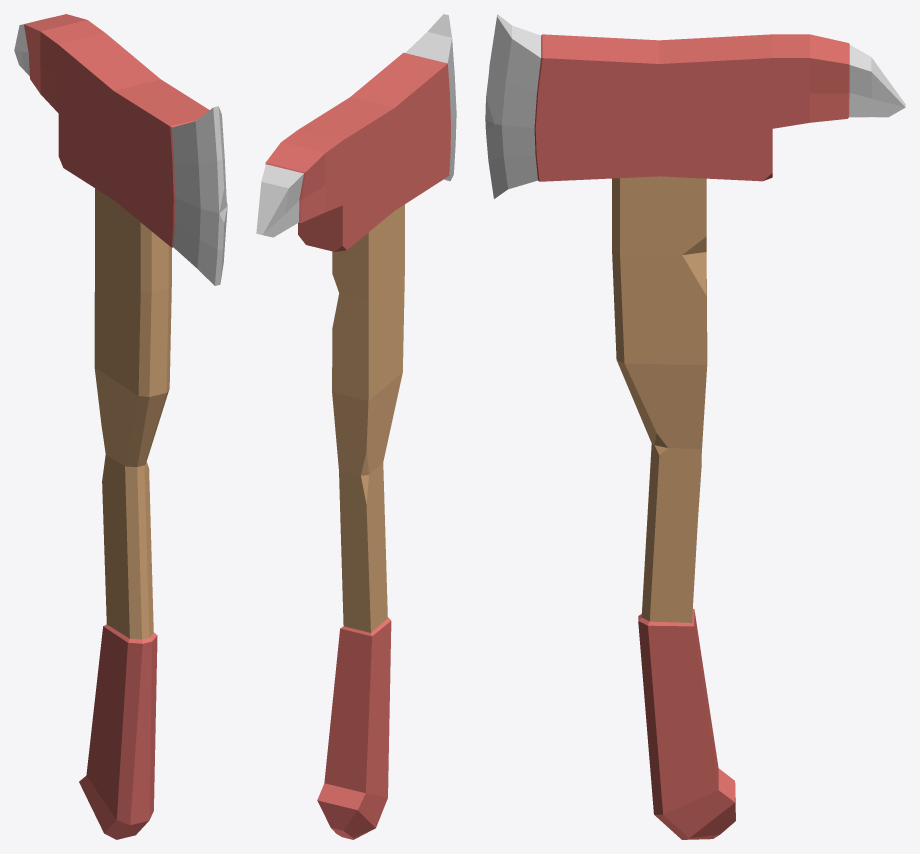
Rendered from scene_27EPRLRH5e.glb.
3 views of the same model, side by side, from view 1: azimuth 30°, elevation 25°; view 2: azimuth 150°, elevation 25°; view 3: azimuth 270°, elevation 25° (orthographic). The views are drawn at different scales.
Parts seen in each view (by area): view 1: Axe_Cube.001; view 2: Axe_Cube.001; view 3: Axe_Cube.001.
Boxes of the visible parts, x1,y1,x2,y2 form: Axe_Cube.001: (14,14,227,839); Axe_Cube.001: (256,14,456,839); Axe_Cube.001: (485,14,905,839).
Bounding box in the file's own units: 0.1475 × 2.38 × 1.1.
